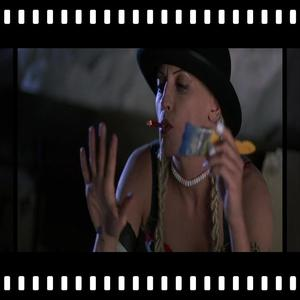cigarette: (145, 120, 165, 130)
